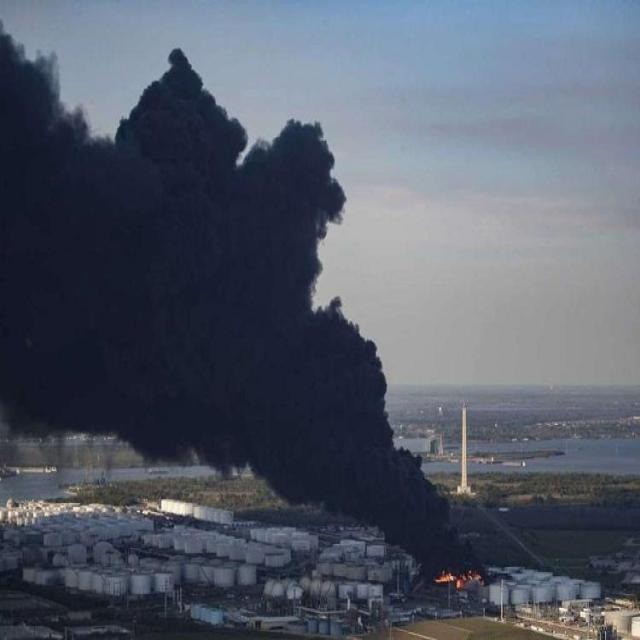Fire: (436, 570, 483, 590)
Smoke: (1, 14, 487, 560)
